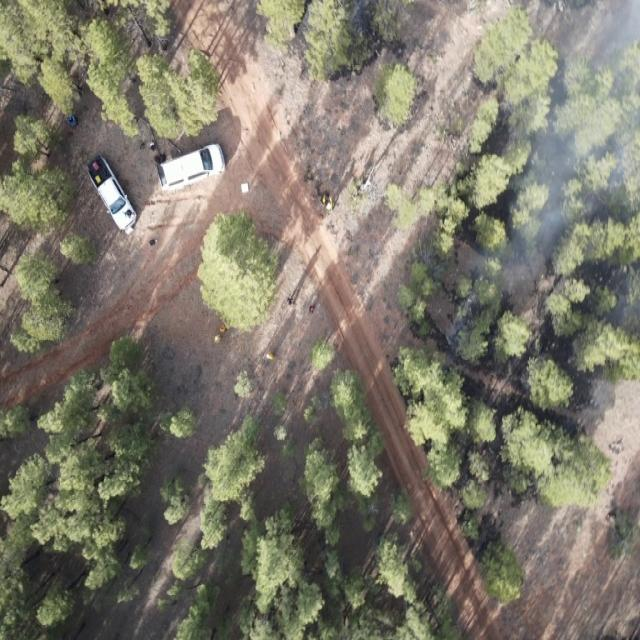smoke: (447, 131, 640, 347), (501, 0, 640, 131)
